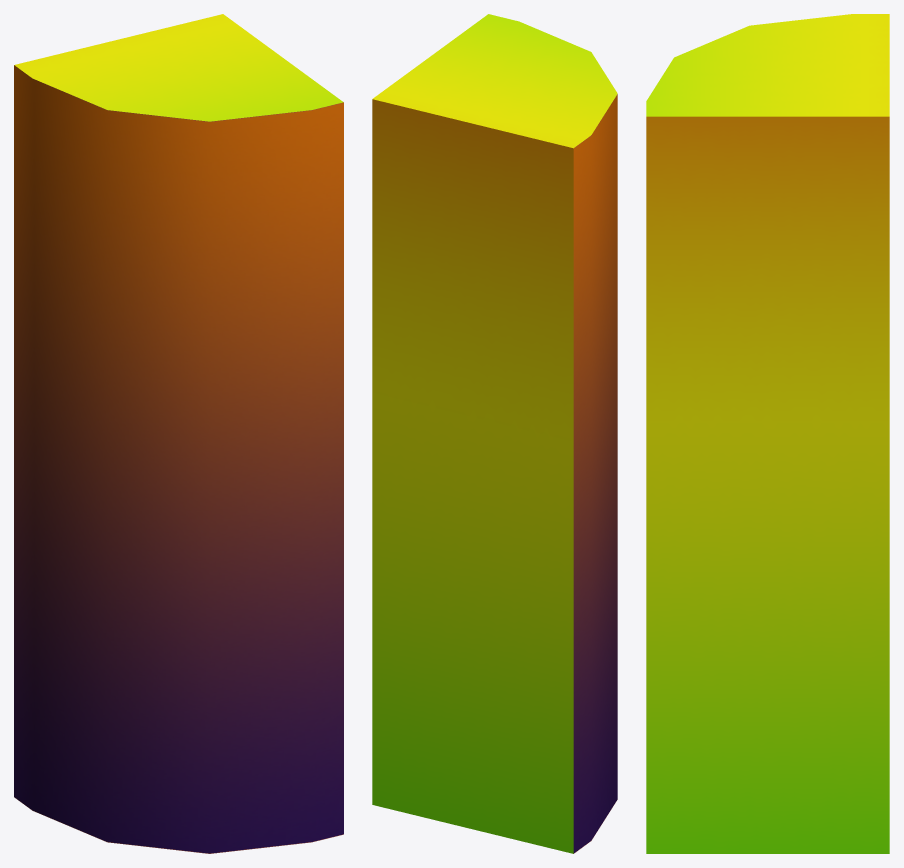
The model's file is wood.glb.
3 views of the same model, side by side, from view 1: azimuth 30°, elevation 25°; view 2: azimuth 150°, elevation 25°; view 3: azimuth 270°, elevation 25° (orthographic). The views are drawn at different scales.
Parts seen in each view (by area): view 1: wood; view 2: wood; view 3: wood.
Boxes of the visible parts, x1,y1,x2,y2 form: wood: (14,14,343,853); wood: (372,14,617,853); wood: (646,14,889,853).
Size of the model in its own units: 0.1803 by 0.6034 by 0.1803.
Materials: 1 (1 with a texture image).
